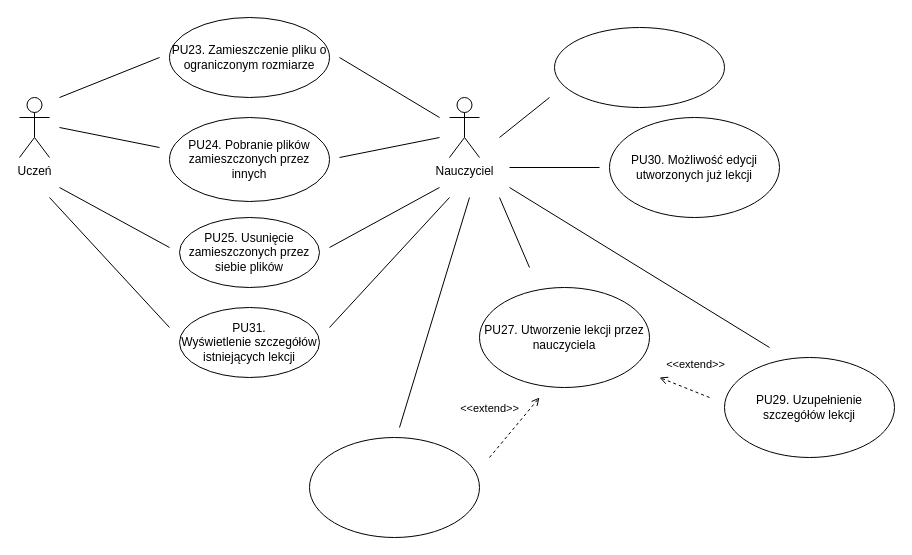
Some shapes in this 912 by 555 pixel diagram are drawn without their labels. The shapes that lost their labels are listed below. From the top down, each one's box as (x1, y1, x2, y2) in pixels, then its label:
(554, 26, 724, 108): PU26 . Usunięcie plików zamieszczonych przez dowolną osobę
(308, 436, 480, 538): PU28. Sprawdzenie obecności w ramach lekcji
